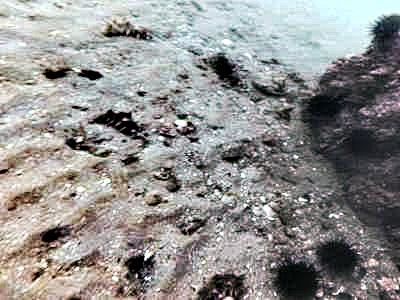urchin: (271, 258, 323, 296), (319, 238, 362, 275), (304, 90, 345, 123), (369, 13, 395, 45)
